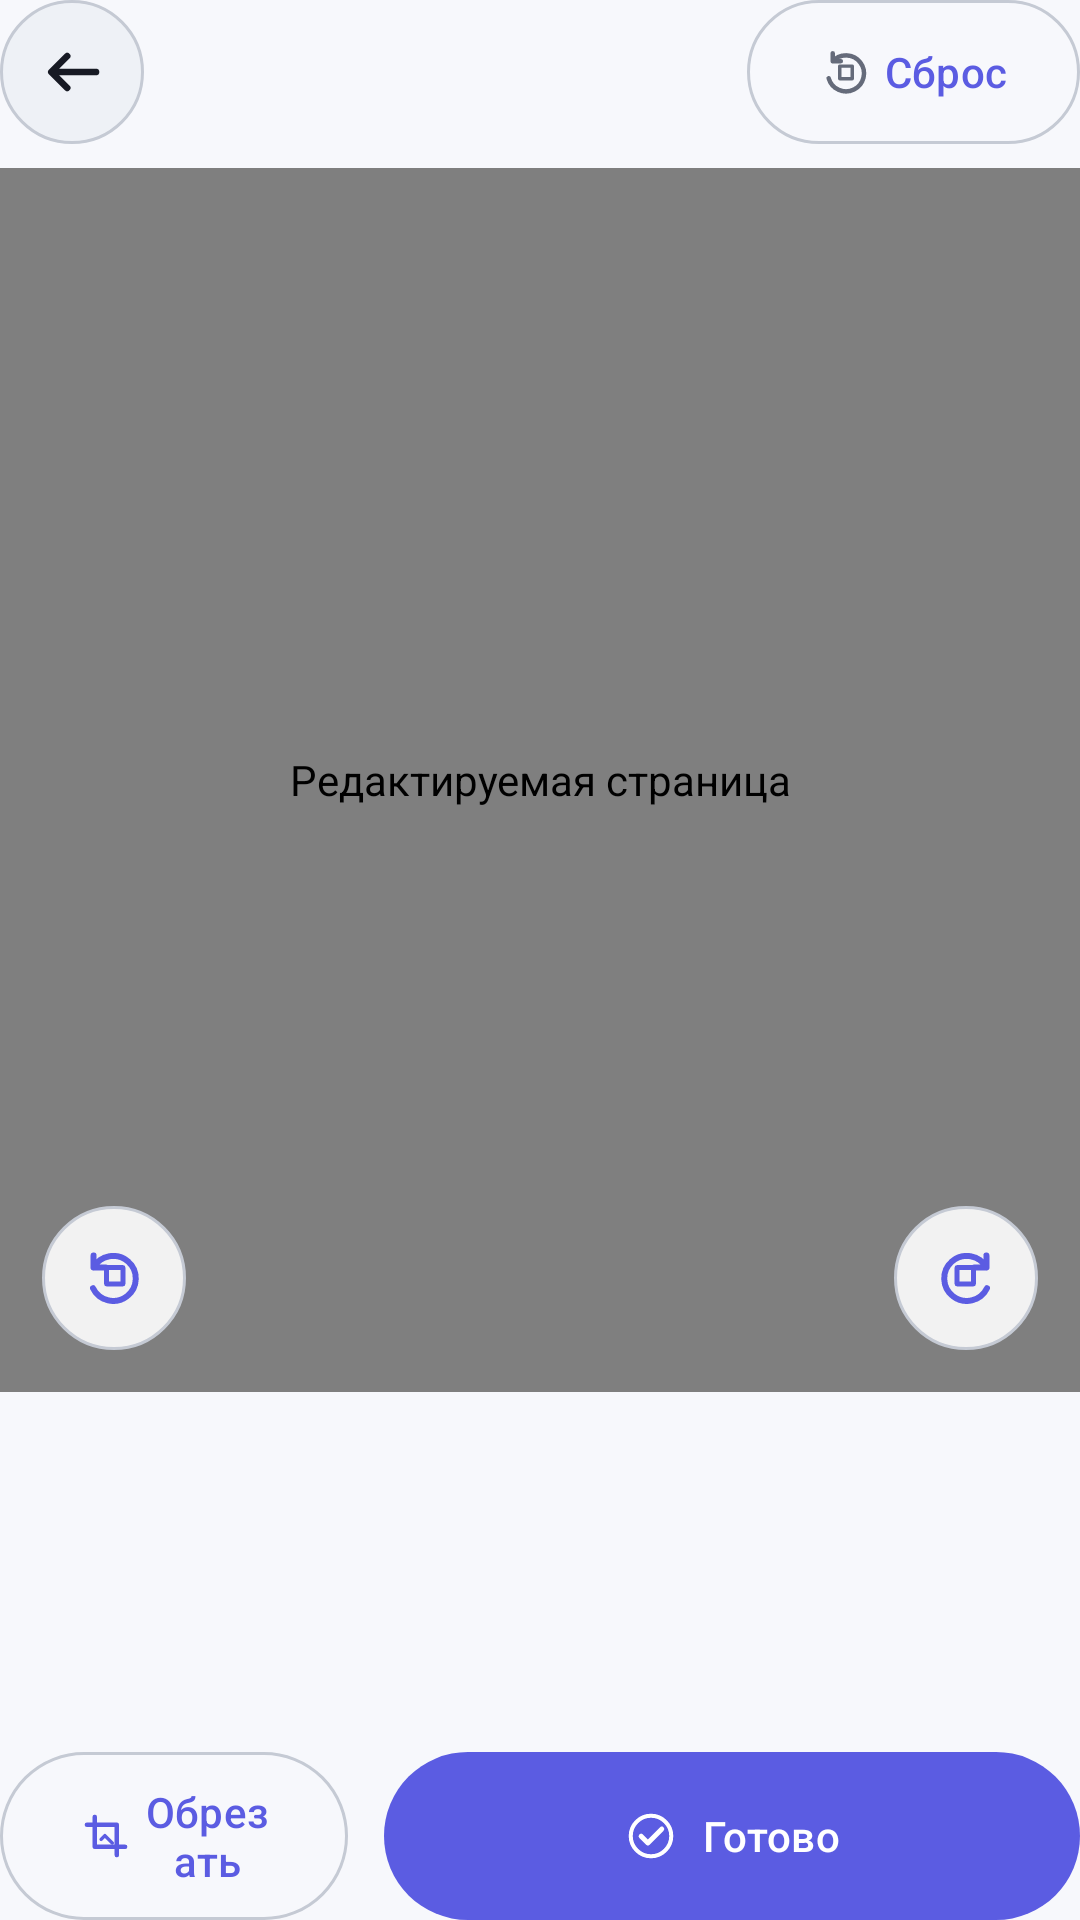

Icons on this 1080×1920 Android screen, each with its box as (x1, y1, x2, y2):
Вернуться к списку страниц: (0, 0, 144, 144)
Повернуть страницу влево: (42, 1206, 186, 1350)
Повернуть страницу вправо: (894, 1206, 1038, 1350)
